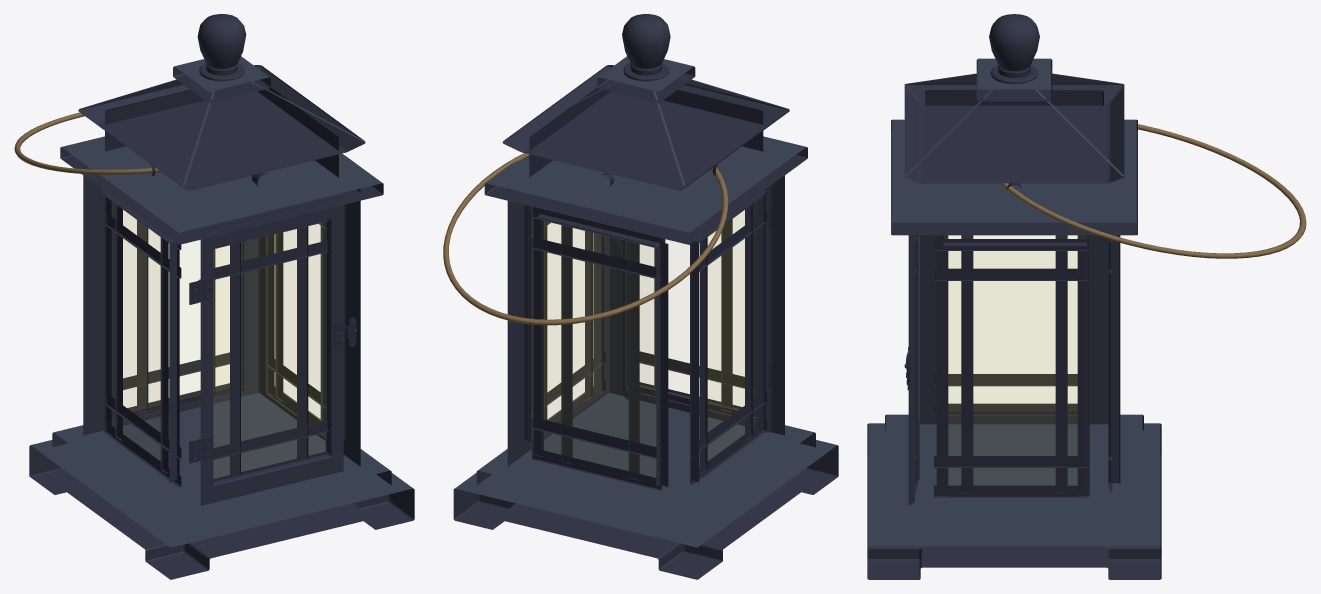
Rendered from repaired_lantern.glb.
3 renders of one model, left to right at view 1: azimuth 30°, elevation 25°; view 2: azimuth 150°, elevation 25°; view 3: azimuth 270°, elevation 25°, orthographic. The views are drawn at different scales.
Visible parts, largest first — view 1: Cube.002_55, Cube.006_59, Cube.005_58, Cube.003_56, Cube.001_54, Cube.008_64, Cube.009_65, Cube.011_67, Cube.014_70, Cube.010_66, Cube.004_57, Cube.012_68 (+7 smaller); view 2: Cube.002_55, Cube.006_59, Cube.005_58, Cube.001_54, Cube.003_56, Cube.009_65, Cube.016_72, Cube.011_67, Cube.014_70, Cube.010_66, Cube.015_71, Circle.004_91 (+6 smaller); view 3: Cube.002_55, Cube.005_58, Cube.001_54, Cube.006_59, Cube.003_56, Cube.014_70, Cube.011_67, Cube.012_68, Cube.013_69, Circle.004_91, Cylinder.002_63, Cube.007_60 (+2 smaller).
Part boxes in pixels (bbox=[...]): Cube.002_55: bbox=[83, 175, 360, 482]; Cube.006_59: bbox=[29, 440, 414, 579]; Cube.005_58: bbox=[78, 65, 365, 190]; Cube.003_56: bbox=[60, 136, 383, 244]; Cube.001_54: bbox=[52, 386, 391, 522]; Cube.008_64: bbox=[200, 196, 343, 505]; Cube.009_65: bbox=[137, 220, 308, 475]; Cube.011_67: bbox=[115, 202, 325, 473]; Cube.014_70: bbox=[104, 194, 273, 485]; Cube.010_66: bbox=[114, 211, 328, 459]; Cube.004_57: bbox=[105, 87, 338, 186]; Cube.012_68: bbox=[104, 213, 325, 458]; Cube.002_55: bbox=[507, 175, 784, 486]; Cube.006_59: bbox=[453, 440, 838, 579]; Cube.005_58: bbox=[502, 65, 789, 190]; Cube.001_54: bbox=[476, 386, 815, 522]; Cube.003_56: bbox=[484, 136, 807, 244]; Cube.009_65: bbox=[561, 219, 732, 480]; Cube.016_72: bbox=[533, 200, 757, 487]; Cube.011_67: bbox=[544, 202, 752, 473]; Cube.014_70: bbox=[528, 189, 765, 484]; Cube.010_66: bbox=[532, 210, 754, 459]; Cube.015_71: bbox=[532, 207, 756, 490]; Circle.004_91: bbox=[443, 153, 728, 325]; Cube.002_55: bbox=[908, 235, 1120, 505]; Cube.005_58: bbox=[904, 73, 1124, 183]; Cube.001_54: bbox=[885, 414, 1143, 522]; Cube.006_59: bbox=[867, 423, 1161, 579]; Cube.003_56: bbox=[891, 119, 1137, 235]; Cube.014_70: bbox=[936, 235, 1089, 496]; Cube.011_67: bbox=[961, 235, 1067, 493]; Cube.012_68: bbox=[934, 268, 1088, 467]; Cube.013_69: bbox=[934, 239, 1088, 497]; Circle.004_91: bbox=[1000, 124, 1306, 258]; Cylinder.002_63: bbox=[989, 14, 1039, 71]; Cube.007_60: bbox=[976, 58, 1052, 101].
Size of the model in its own units: 2.2 by 4.14 by 3.29.
